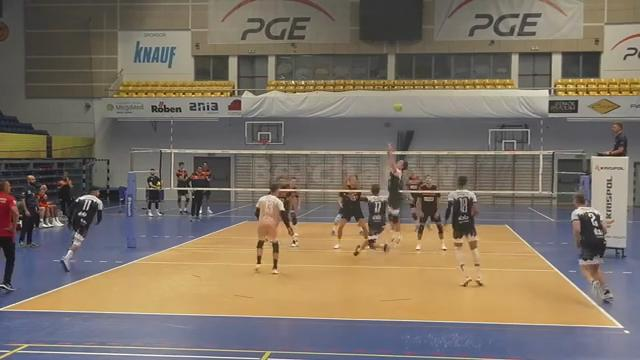alzata: (381, 141, 409, 251)
